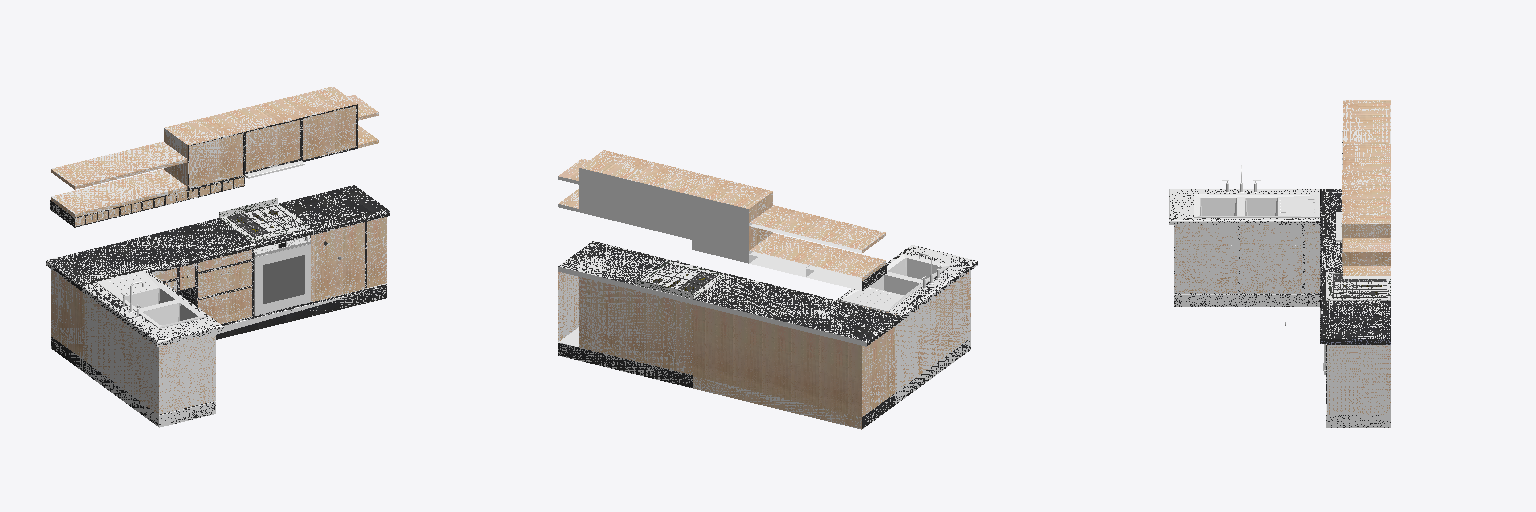
3 renders of one model, left to right at view 1: azimuth 30°, elevation 25°; view 2: azimuth 150°, elevation 25°; view 3: azimuth 270°, elevation 25°, orthographic.
Parts seen in each view (by area): view 1: model; view 2: model; view 3: model.
Part boxes in pixels (bbox=[...]): model: bbox=[46, 87, 389, 427]; model: bbox=[558, 150, 977, 429]; model: bbox=[1169, 100, 1390, 427].
Bounding box in the file's own units: 3.28 × 1.96 × 2.05.
Materials: 18 (6 with a texture image).